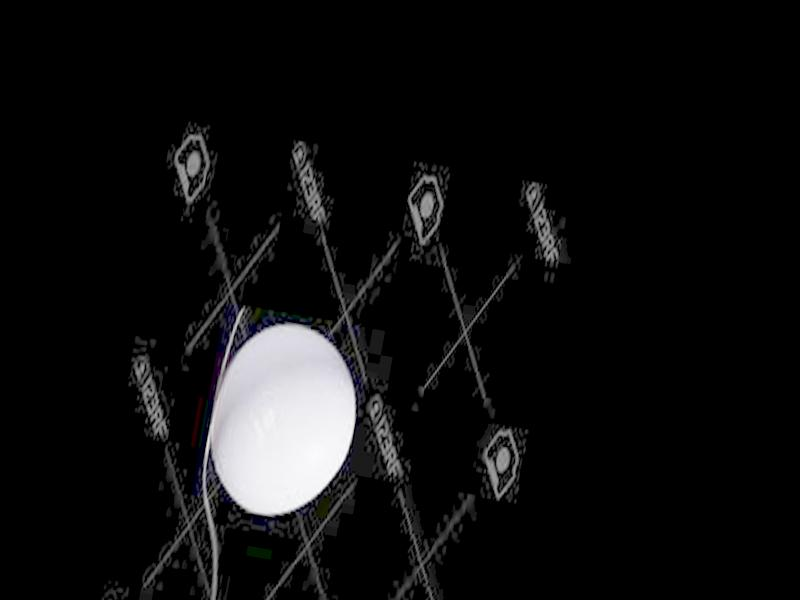Eggs: (197, 313, 367, 527)
